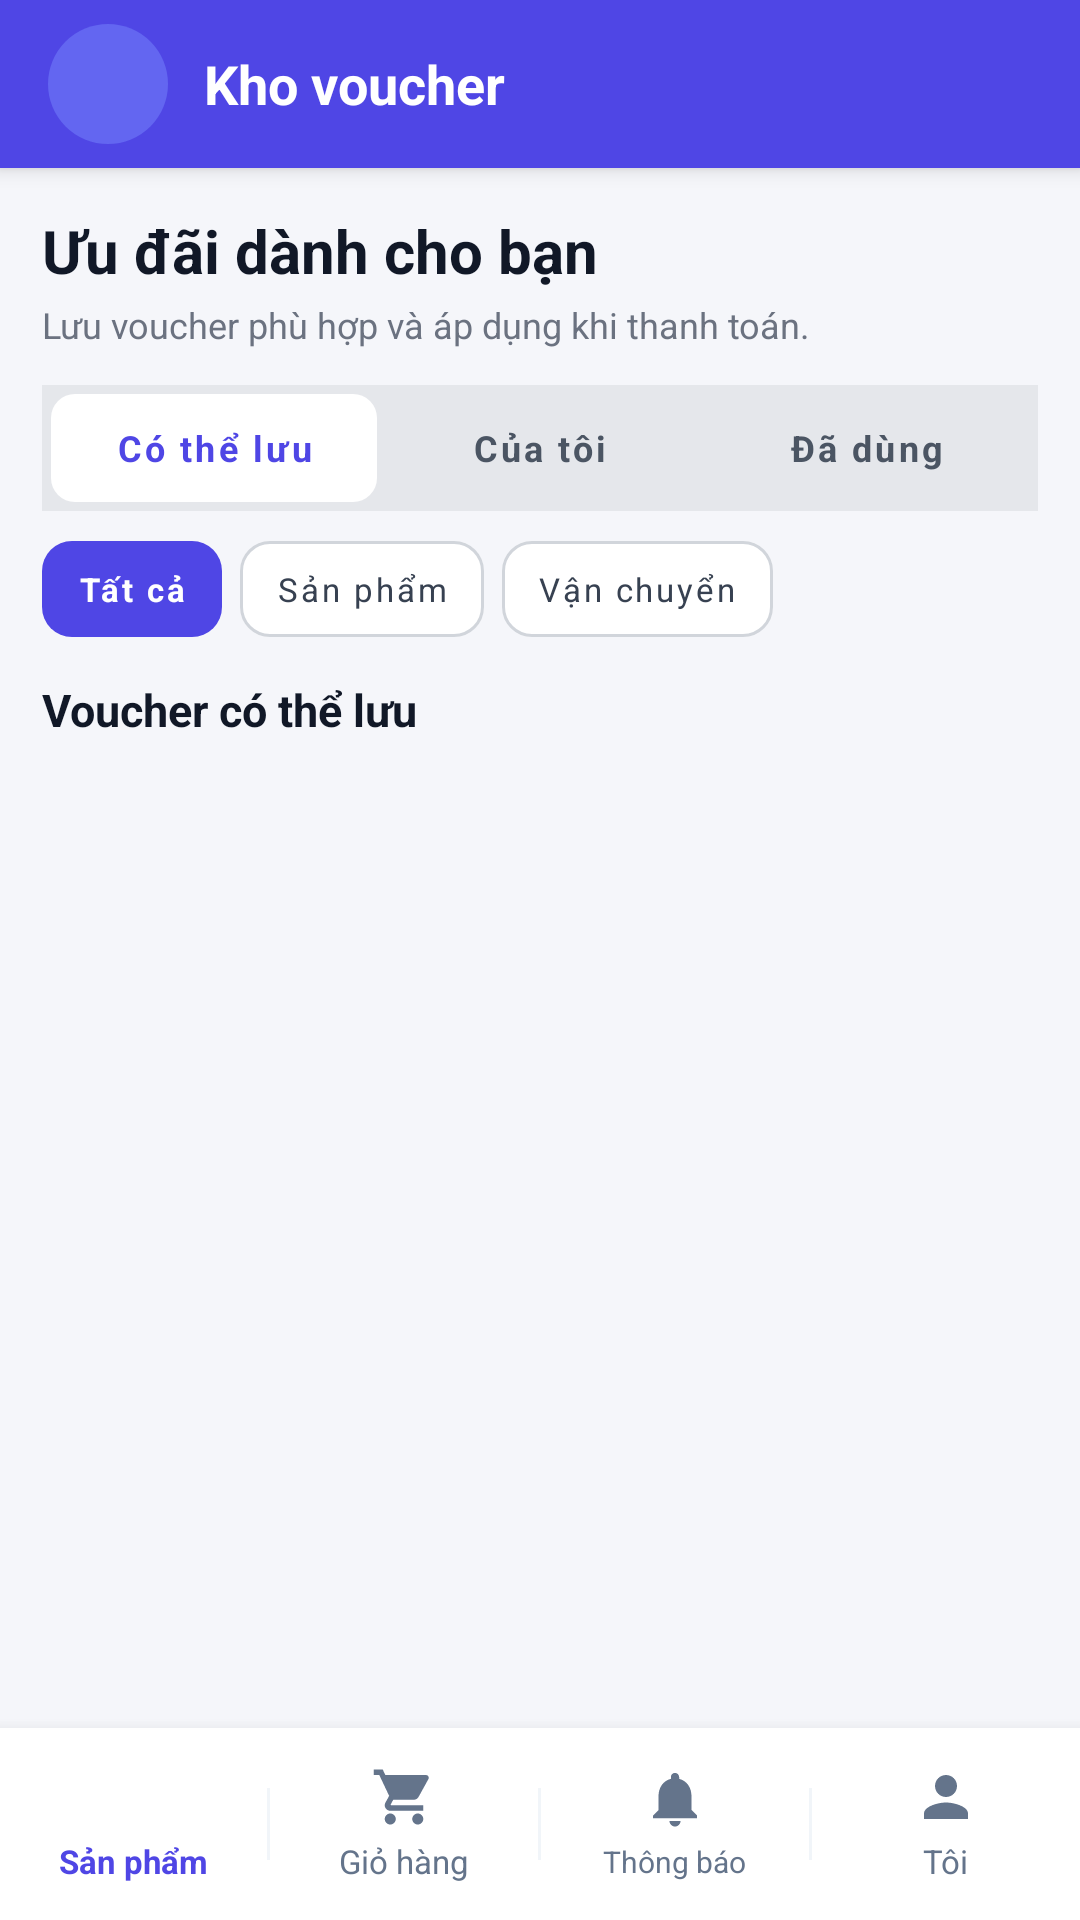

Point at icon controls on the screen. Image size 1080w x 1920h, points as [x,y].
Tài khoản: [946,1797]
